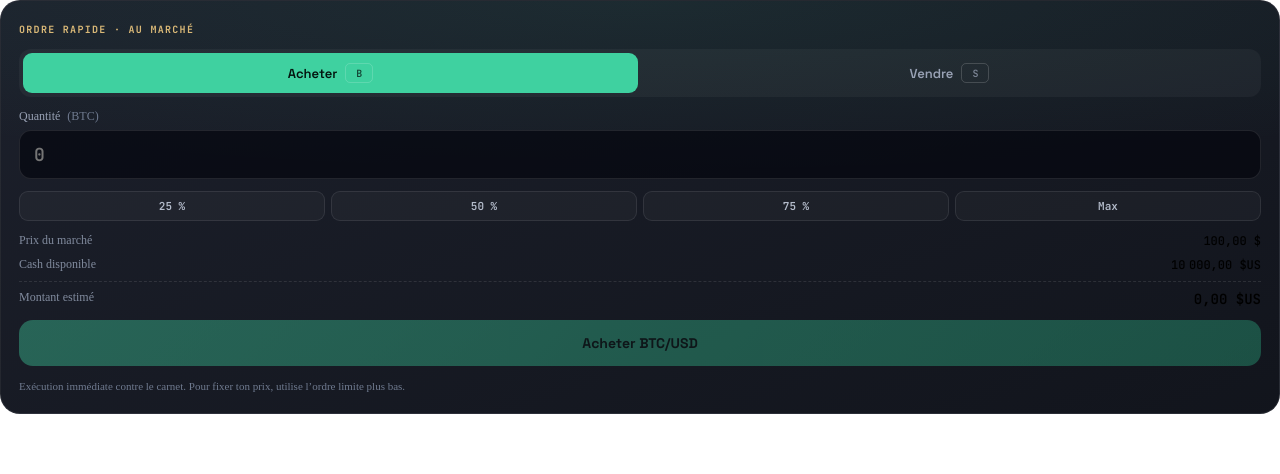
Test: QuickTrade › refuse un achat qui dépasse le cash
In the number field: (640, 154) [19,130,1261,179], type "1000"
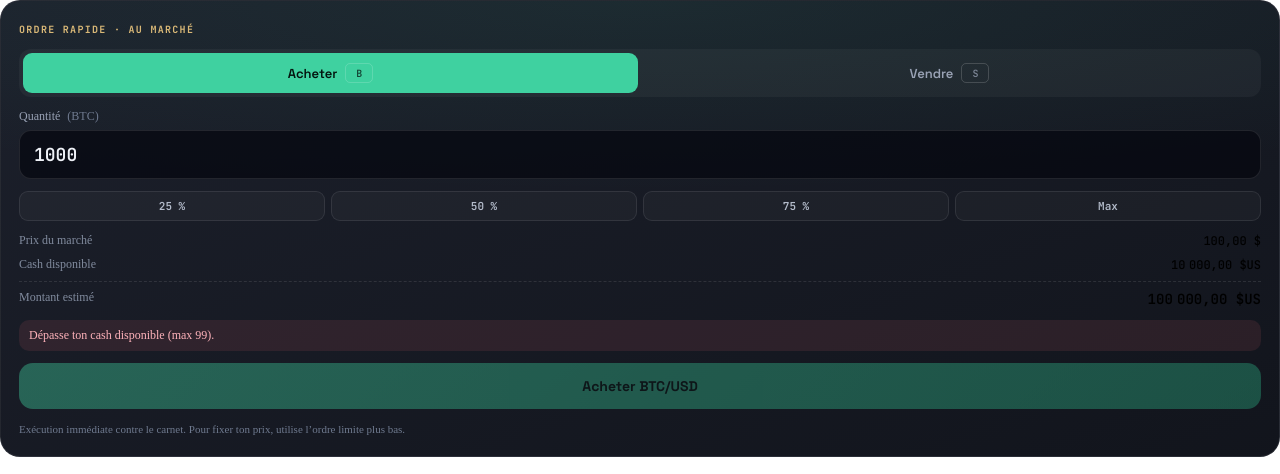
Expected: the button "Acheter BTC/USD" is disabled, [19,363,1261,409]
Expected: the message shows "Dépasse ton cash", [29,328,165,342]
